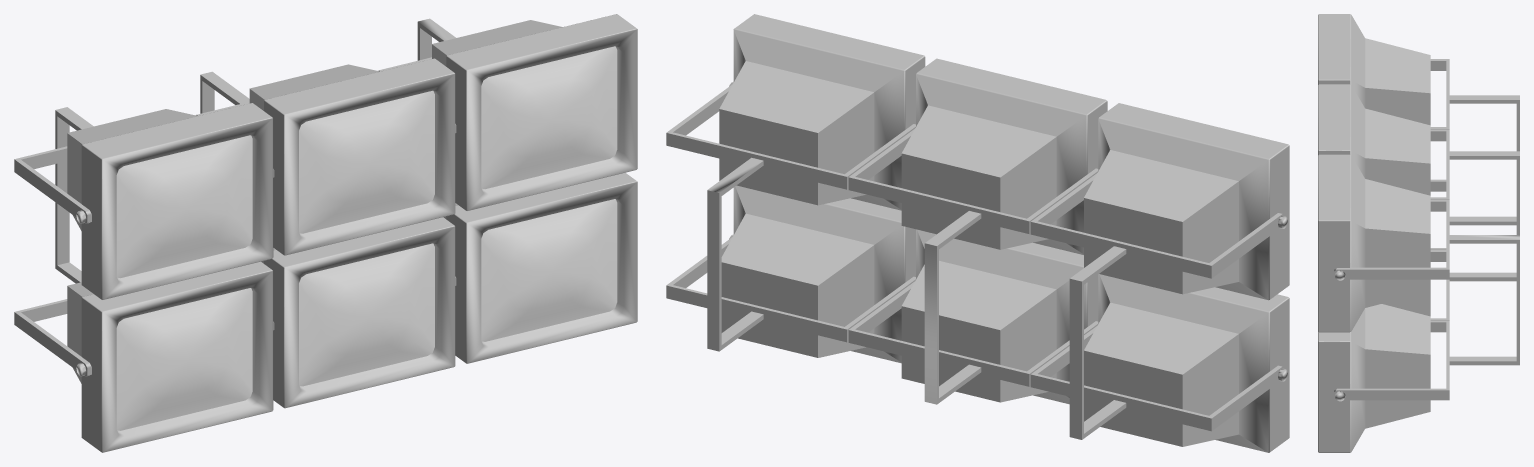
The model's file is CRTMonitors.fbx.
The picture shows the model from 3 angles, left to right: view 1: azimuth 30°, elevation 25°; view 2: azimuth 150°, elevation 25°; view 3: azimuth 270°, elevation 25°; orthographic projection. The views are drawn at different scales.
Visible parts, largest first — view 1: CRTMonitors; view 2: CRTMonitors; view 3: CRTMonitors.
Part boxes in pixels (<box>): CRTMonitors: <box>14,14,637,452</box>; CRTMonitors: <box>666,14,1289,452</box>; CRTMonitors: <box>1318,14,1519,452</box>.
Size of the model in its own units: 1.53 by 0.7759 by 0.6094.
